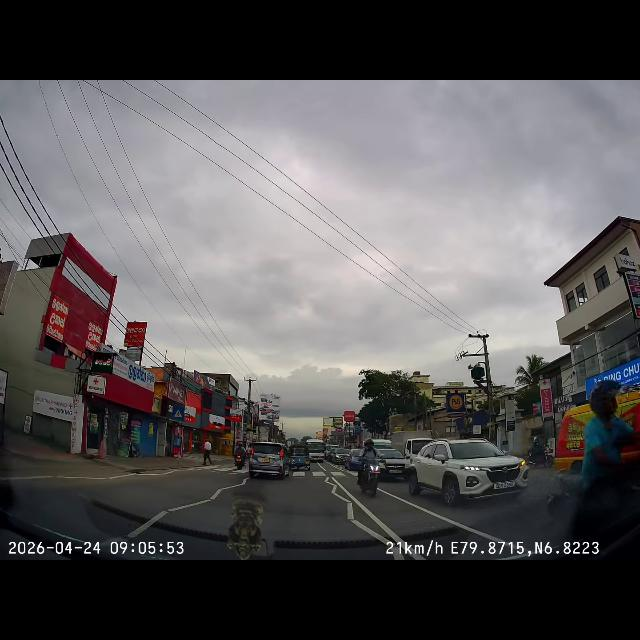car: (428, 451, 506, 497), (252, 443, 284, 479), (379, 451, 398, 484)
crosswalk: (294, 470, 352, 480)
double_solid_line: (361, 504, 465, 550)
helmet: (590, 384, 618, 410), (368, 441, 374, 449)
motorcycle: (558, 481, 640, 515), (359, 462, 377, 490)
person: (582, 389, 630, 477), (366, 440, 374, 478)
three_wheeler: (292, 443, 312, 463)
